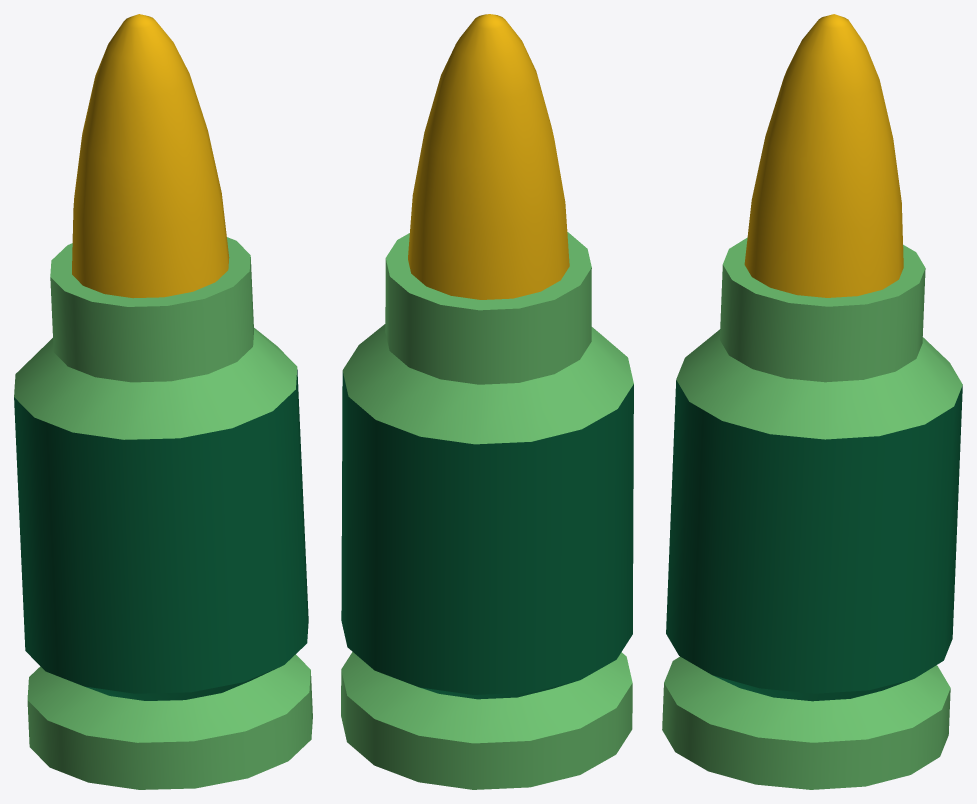
Rendered from Bullet.fbx.
3 renders of one model, left to right at view 1: azimuth 30°, elevation 25°; view 2: azimuth 150°, elevation 25°; view 3: azimuth 270°, elevation 25°, orthographic.
Parts seen in each view (by area): view 1: Bullet01_single_mesh.001; view 2: Bullet01_single_mesh.001; view 3: Bullet01_single_mesh.001.
Part boxes in pixels (bbox=[...]): Bullet01_single_mesh.001: bbox=[14, 14, 312, 789]; Bullet01_single_mesh.001: bbox=[341, 14, 633, 789]; Bullet01_single_mesh.001: bbox=[662, 14, 962, 789].
Size of the model in its own units: 689 by 1833 by 698.
